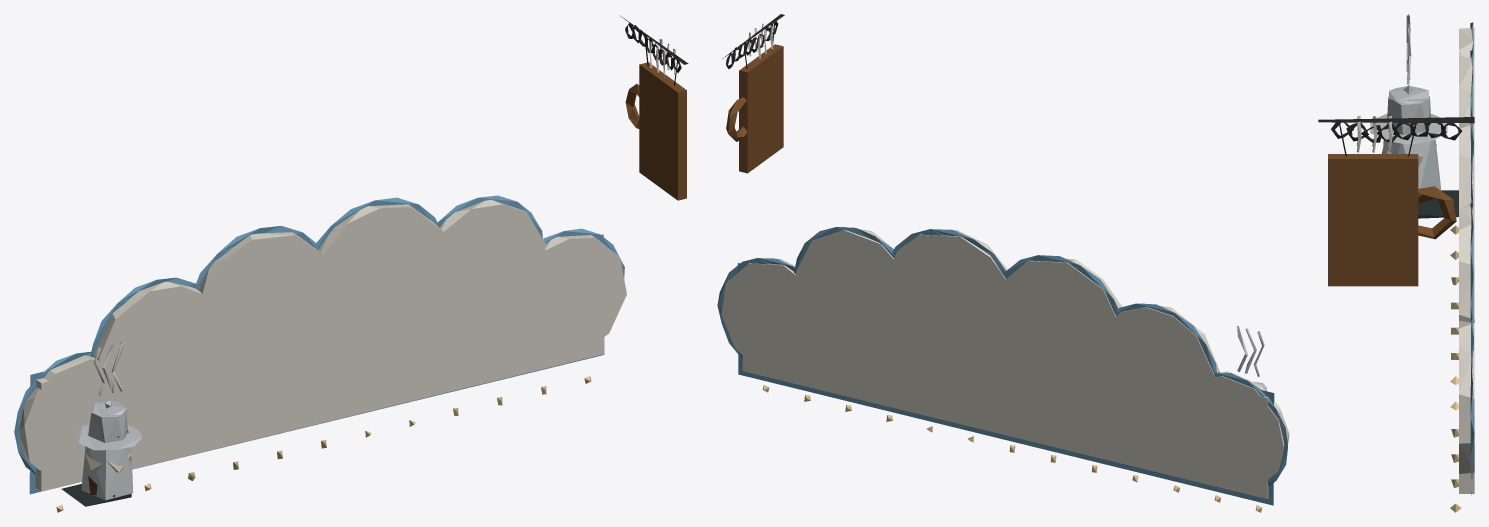
Rendered from bang_cafe_may_60.glb.
The picture shows the model from 3 angles, left to right: view 1: azimuth 30°, elevation 25°; view 2: azimuth 150°, elevation 25°; view 3: azimuth 270°, elevation 25°; orthographic projection. The views are drawn at different scales.
Parts seen in each view (by area): view 1: bang_cafe_may_60; view 2: bang_cafe_may_60; view 3: bang_cafe_may_60.
Boxes of the visible parts, x1,y1,x2,y2 form: bang_cafe_may_60: (14,15,688,512); bang_cafe_may_60: (717,14,1289,512); bang_cafe_may_60: (1318,14,1474,512).
Size of the model in its own units: 5.34 by 2.95 by 1.
